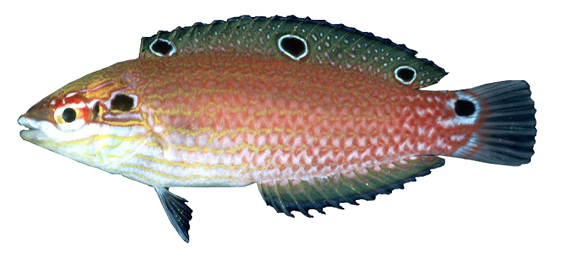fish: (18, 14, 537, 244)
